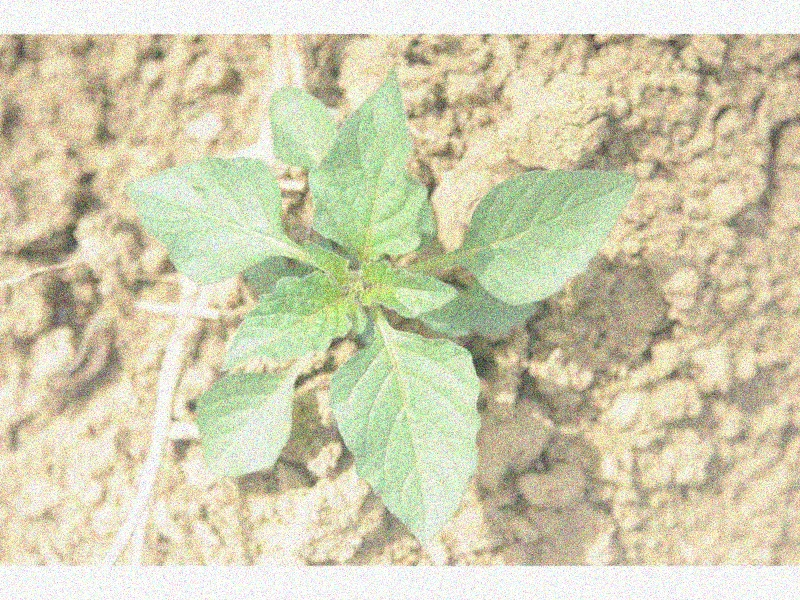nightshade: (123, 67, 637, 544)
